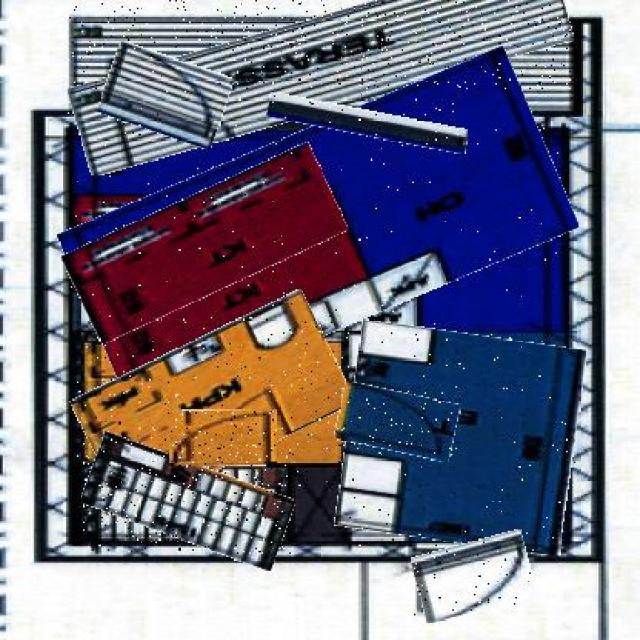door: (102, 47, 230, 142), (414, 537, 534, 617), (337, 388, 458, 455), (171, 411, 278, 466)
window: (266, 102, 468, 144)
zone: (66, 90, 569, 372), (70, 0, 572, 142), (342, 326, 580, 549), (77, 315, 349, 491), (63, 168, 345, 317), (83, 448, 292, 555)
